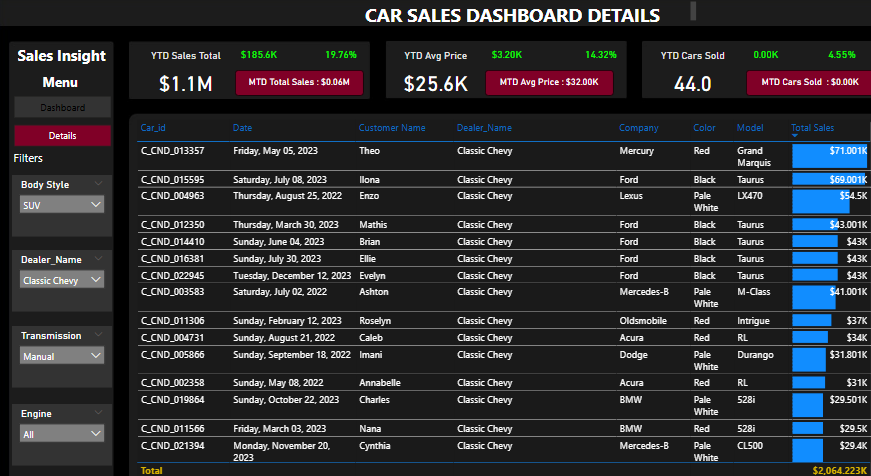

Layout of this report page (visuals, bound fields, positions):
{"tool":"powerbi","page":{"name":"Details","canvas":[1280,720],"ordinal":1},"visuals":[{"type":"card","title":"YTD Sales Total","fields":{"Values":["car_data.YTD Total Sales"]},"box":[177.8,74.9,182.2,76.4],"z":0},{"type":"card","fields":{"Values":["car_data.Sales Difference"]},"box":[298.3,61.7,148.4,41.1],"z":1000},{"type":"card","fields":{"Values":["car_data.YOY Sales Growth"]},"box":[415.8,61.7,148.4,41.1],"z":2000},{"type":"card","fields":{"Values":["car_data.MTD KPI"]},"box":[338,102.9,183.7,36.7],"z":3000},{"type":"card","title":"YTD Avg Price","fields":{"Values":["car_data.YTD Avg Price"]},"box":[534.9,74.9,182.2,76.4],"z":4000},{"type":"card","fields":{"Values":["car_data.Avg Price Diff"]},"box":[652.4,61.7,148.4,41.1],"z":5000},{"type":"card","fields":{"Values":["car_data.YOY Avg Price Growth"]},"box":[787.6,61.7,148.4,41.1],"z":6000},{"type":"card","fields":{"Values":["car_data.MTD Avg Price KPI"]},"box":[695,102.9,183.7,36.7],"z":7000},{"type":"card","title":"YTD Cars Sold","fields":{"Values":["car_data.YTD Cars Sold"]},"box":[900.7,74.9,182.2,76.4],"z":8000},{"type":"card","fields":{"Values":["car_data.Cars Sold Diff"]},"box":[1022.7,61.7,148.4,41.1],"z":9000},{"type":"card","fields":{"Values":["car_data.YOY Cars Sold Growth"]},"box":[1131.4,61.7,148.4,41.1],"z":10000},{"type":"card","fields":{"Values":["car_data.MTD Cars Sold KPI"]},"box":[1068.2,102.9,183.7,36.7],"z":11000},{"type":"textbox","box":[474.6,0,527.5,41.1],"z":17000},{"type":"slicer","fields":{"Values":["car_data.Body Style"]},"box":[20.6,252.7,142.5,88.2],"z":18000},{"type":"slicer","fields":{"Values":["car_data.Dealer_Name"]},"box":[20.6,360,142.5,88.2],"z":19000},{"type":"slicer","fields":{"Values":["car_data.Engine"]},"box":[20.6,580.4,142.5,88.2],"z":20000},{"type":"slicer","fields":{"Values":["car_data.Transmission"]},"box":[20.6,468.7,142.5,88.2],"z":21000},{"type":"textbox","box":[17.6,213.1,116.1,39.7],"z":22000},{"type":"tableEx","fields":{"Values":["car_data.Car_id","car_data.Date","car_data.Customer Name","car_data.Dealer_Name","car_data.Company","car_data.Color","car_data.Model","car_data.Price ($)"]},"box":[192.5,169,1068.2,523.1],"z":22001},{"type":"textbox","box":[23.5,61.7,149.9,41.1],"z":22002},{"type":"textbox","box":[58.8,101.4,149.9,41.1],"z":22003},{"type":"pageNavigator","box":[23.5,139.6,139.6,73.5],"z":22004}]}

Visuals, with their boxes on the page's 1280x720 design canvas (x1, y1, x2, y2). These are canvas units, not pixel positions in the 871x476 screenshot, which may show the page scaled, cropped or inside an application window:
"YTD Sales Total" card: <bbox>178, 75, 360, 151</bbox>
card - car_data.Sales Difference: <bbox>298, 62, 447, 103</bbox>
card - car_data.YOY Sales Growth: <bbox>416, 62, 564, 103</bbox>
card - car_data.MTD KPI: <bbox>338, 103, 522, 140</bbox>
"YTD Avg Price" card: <bbox>535, 75, 717, 151</bbox>
card - car_data.Avg Price Diff: <bbox>652, 62, 801, 103</bbox>
card - car_data.YOY Avg Price Growth: <bbox>788, 62, 936, 103</bbox>
card - car_data.MTD Avg Price KPI: <bbox>695, 103, 879, 140</bbox>
"YTD Cars Sold" card: <bbox>901, 75, 1083, 151</bbox>
card - car_data.Cars Sold Diff: <bbox>1023, 62, 1171, 103</bbox>
card - car_data.YOY Cars Sold Growth: <bbox>1131, 62, 1280, 103</bbox>
card - car_data.MTD Cars Sold KPI: <bbox>1068, 103, 1252, 140</bbox>
textbox: <bbox>475, 0, 1002, 41</bbox>
slicer - car_data.Body Style: <bbox>21, 253, 163, 341</bbox>
slicer - car_data.Dealer_Name: <bbox>21, 360, 163, 448</bbox>
slicer - car_data.Engine: <bbox>21, 580, 163, 669</bbox>
slicer - car_data.Transmission: <bbox>21, 469, 163, 557</bbox>
textbox: <bbox>18, 213, 134, 253</bbox>
tableEx - car_data.Car_id x car_data.Date: <bbox>192, 169, 1261, 692</bbox>
textbox: <bbox>24, 62, 173, 103</bbox>
textbox: <bbox>59, 101, 209, 142</bbox>
pageNavigator: <bbox>24, 140, 163, 213</bbox>
